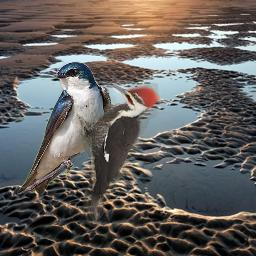Swallow: (17, 60, 112, 196)
Woodpecker: (72, 82, 161, 227)
